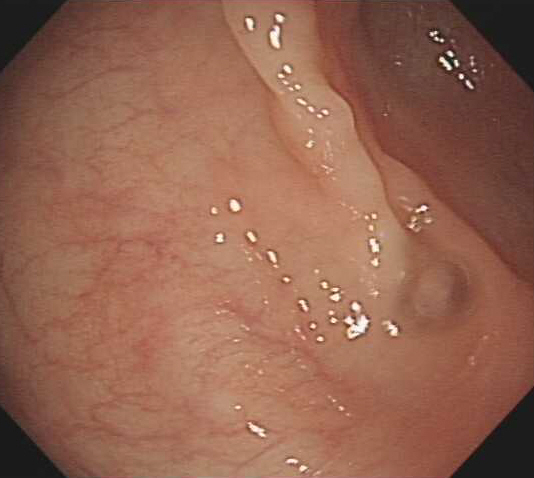others: (164, 306, 354, 436)
